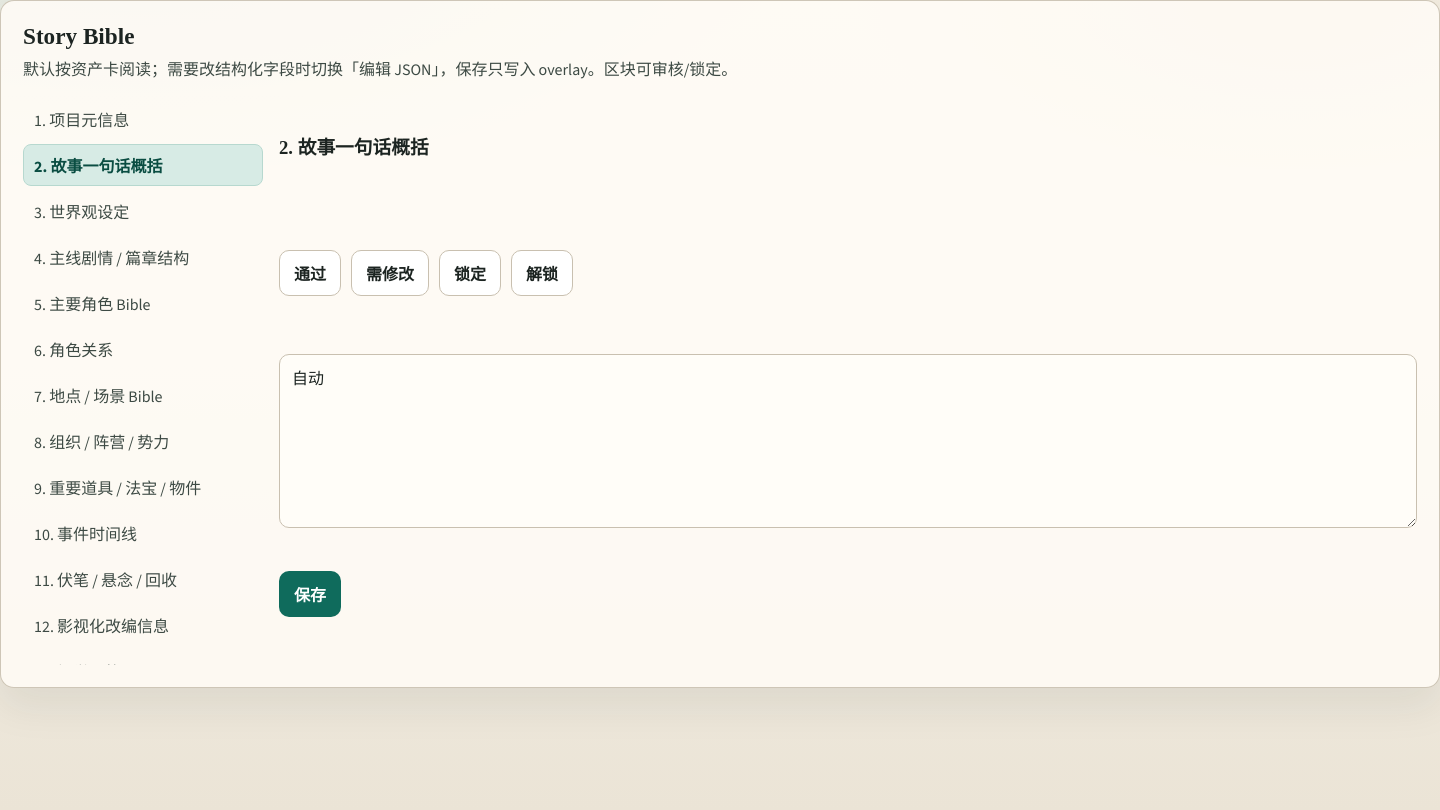
Test: BiblePage › renders readable character cards
The width and height of the screenshot is (1440, 810).
Expected: the text box showing "自动" is shown, [279,354,1417,528]
Click the button "5. 主要角色 Bible" at (143, 303), box [23,282,263,324]
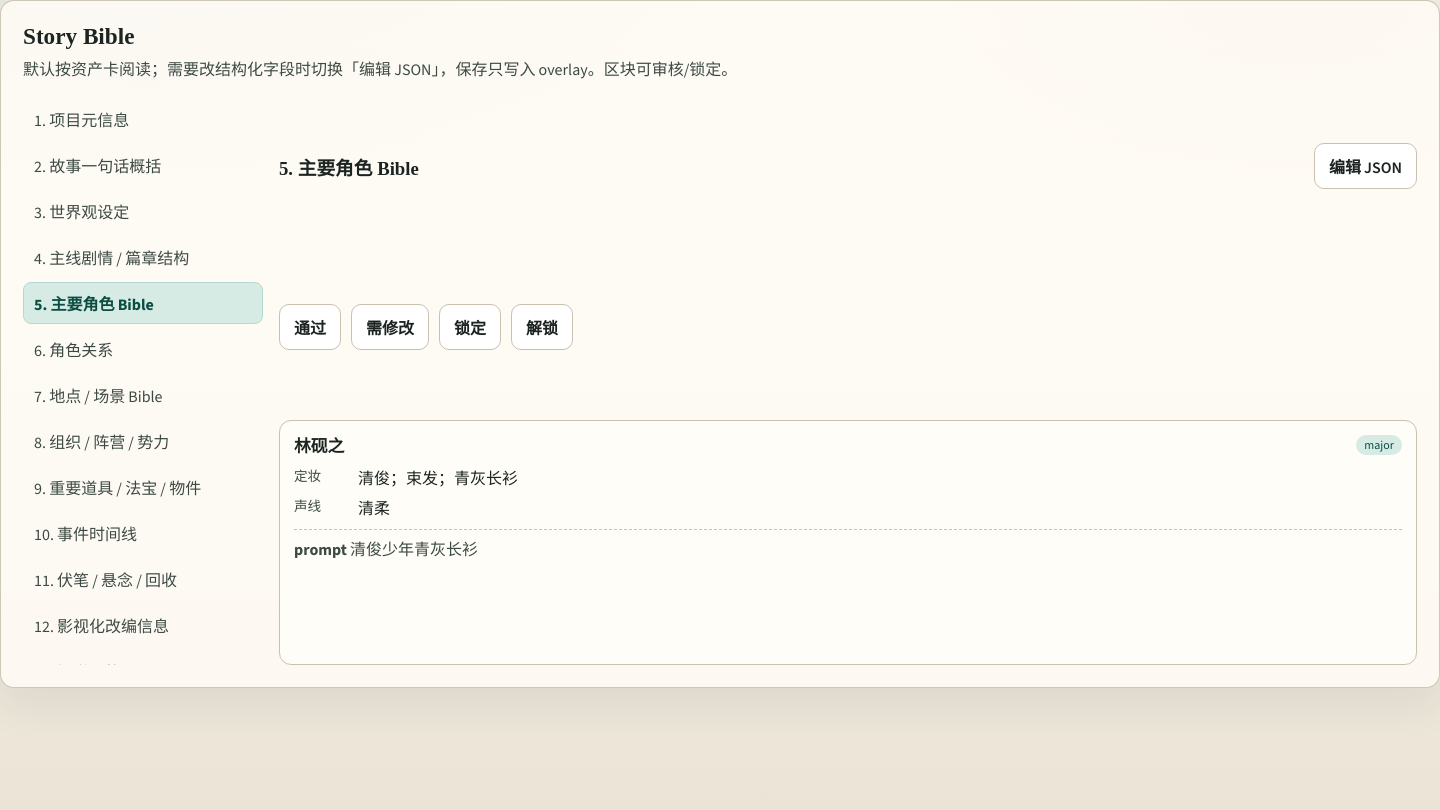
Expected: the heading "林砚之" is shown, [294,433,344,457]
Expected: the text "prompt 清俊少年青灰长衫" is shown, [294,529,1402,561]
Expected: the element named "characters-cards" is shown, [279,420,1417,665]
